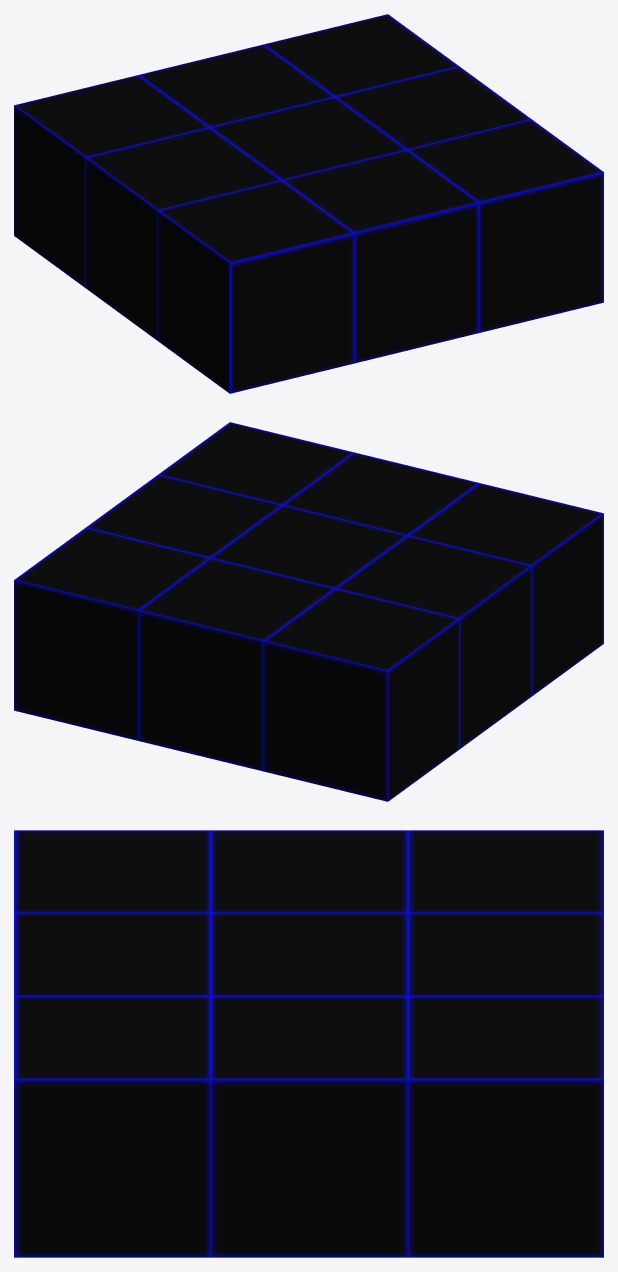
3 renders of one model, top to bottom at view 1: azimuth 30°, elevation 25°; view 2: azimuth 150°, elevation 25°; view 3: azimuth 270°, elevation 25°, orthographic. The views are drawn at different scales.
Visible parts, largest first — view 1: Box001; view 2: Box001; view 3: Box001.
Part boxes in pixels (x1,y1,x2,y2): Box001: (14,14,603,393); Box001: (14,422,603,801); Box001: (14,830,603,1257).
Size of the model in its own units: 3 by 1 by 3.
1 material, 1 textured.
